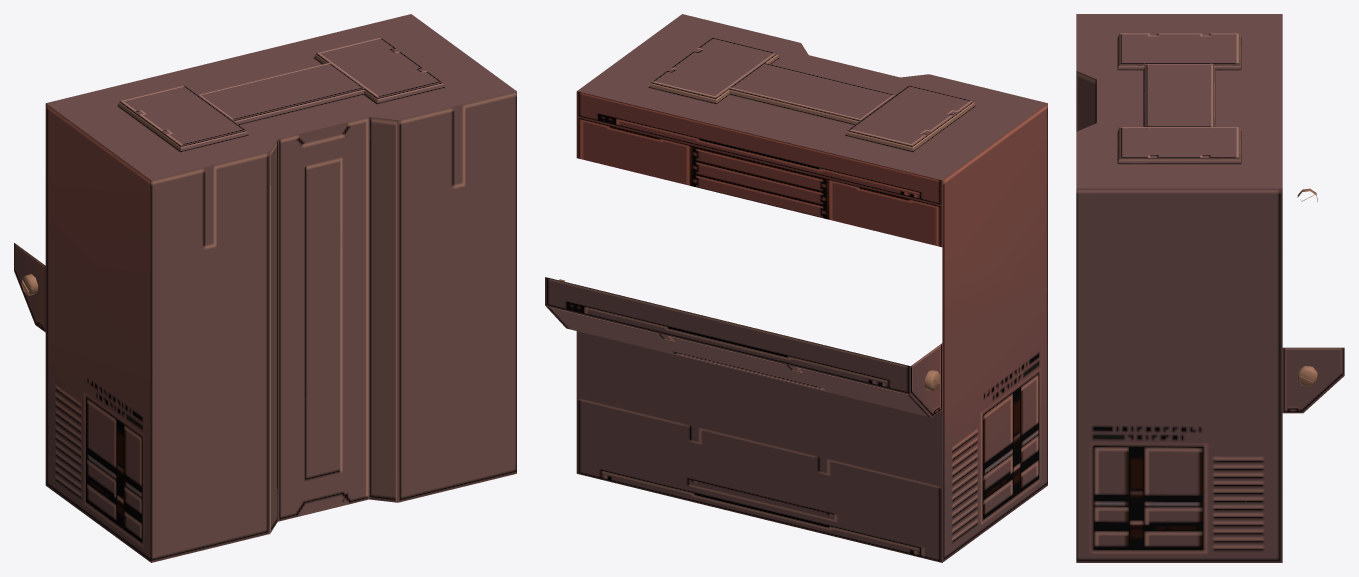
3 views of the same model, side by side, from view 1: azimuth 30°, elevation 25°; view 2: azimuth 150°, elevation 25°; view 3: azimuth 270°, elevation 25° (orthographic). The views are drawn at different scales.
Parts seen in each view (by area): view 1: Joint_0_Object_0; view 2: Joint_0_Object_0; view 3: Joint_0_Object_0, Joint_0_Object_1.
Boxes of the visible parts, left/top/right/bottom form: Joint_0_Object_0: left=14, top=14, right=516, bottom=562; Joint_0_Object_0: left=545, top=14, right=1047, bottom=562; Joint_0_Object_0: left=1076, top=14, right=1344, bottom=562; Joint_0_Object_1: left=1297, top=188, right=1317, bottom=386.
Size of the model in its own units: 1040 by 1015 by 650.
2 materials, 2 textured.
